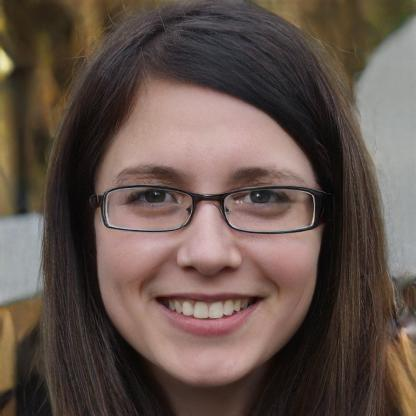glasses: (93, 178, 319, 240)
